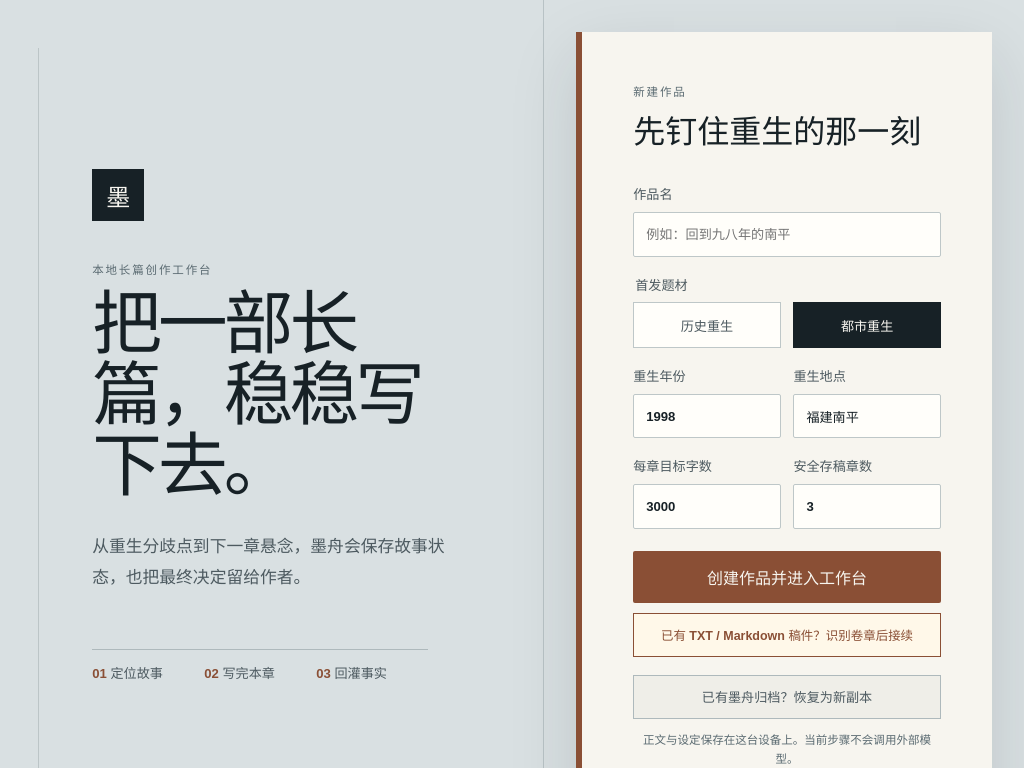
Test: App › keeps the current chapter open when the next chapter body cannot load
This screenshot has width=1024, height=768.
Step 1. Type "回到九八年的南平" into the field labelled "作品名" → (787, 235), box [633, 212, 941, 257]
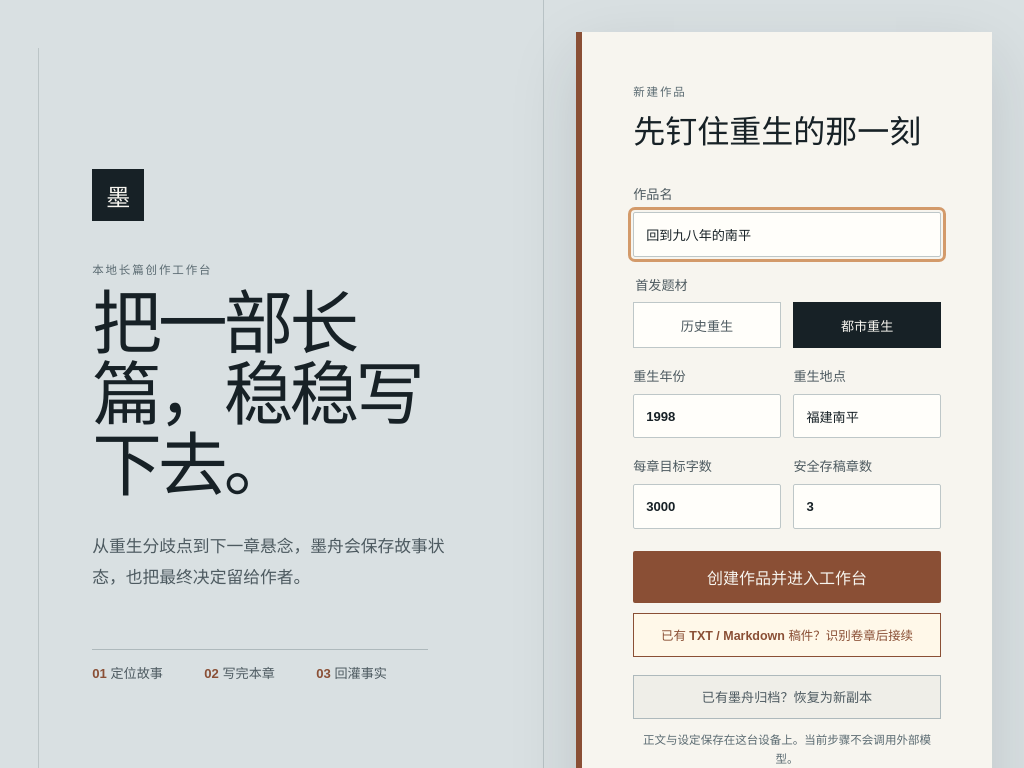
Step 2. Click the button "创建作品并进入工作台" → (787, 577), box [633, 551, 941, 603]
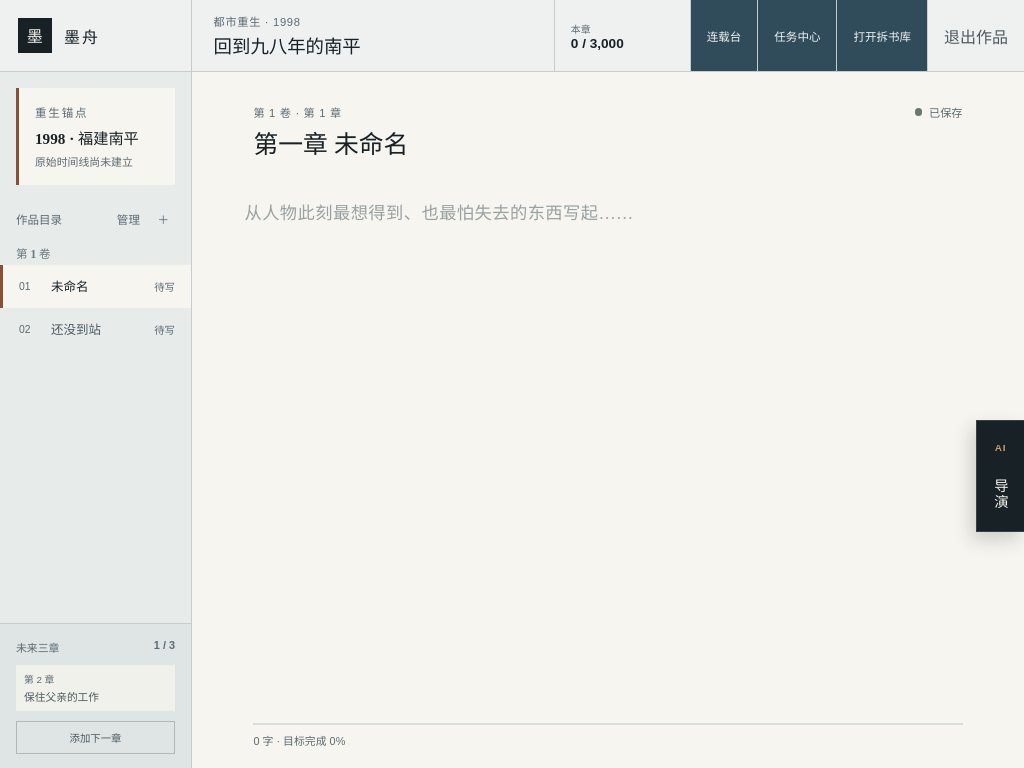
Step 3. Click the button with aria-label "打开第 2 章：第2章 还没到站" → (96, 329), box [0, 308, 191, 351]
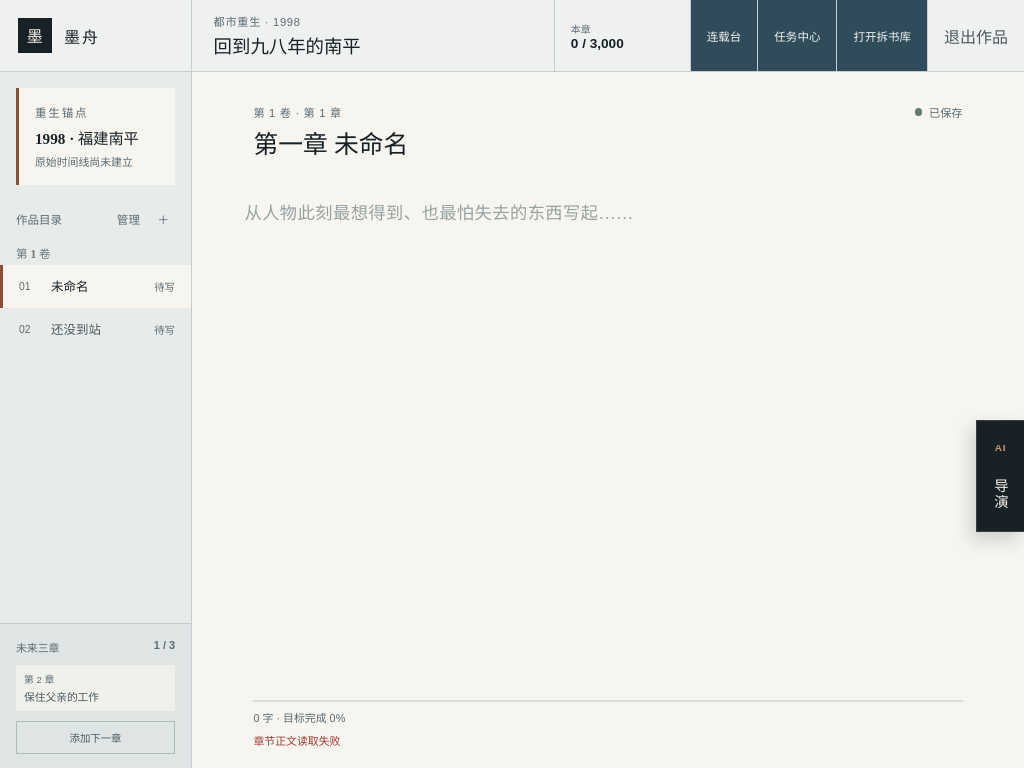
expect the heading "第一章 未命名" is shown: met, box [253, 124, 408, 160]
expect the text box named "章节正文" is empty: met, box [224, 180, 992, 700]
expect the message "章节正文读取失败" is shown: met, box [253, 735, 340, 747]
